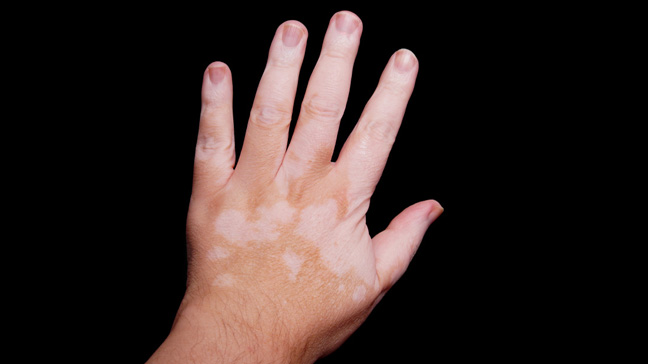vitiligo: (209, 75, 389, 288)
